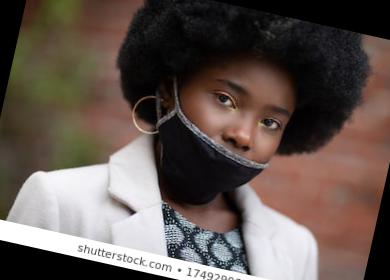mask_weared_incorrect: (179, 76, 295, 186)
